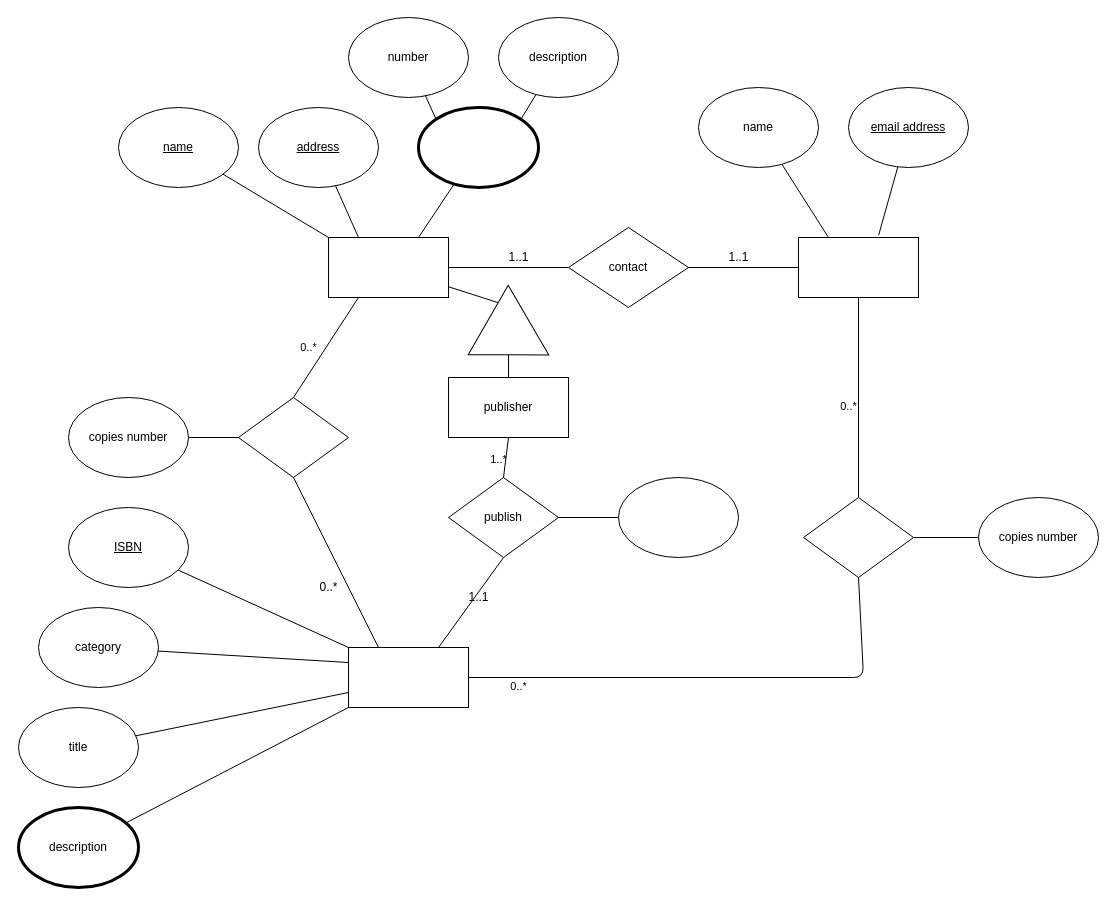
This 1116x906 diagram has some shape labels left out. Here are the shapes that lost their labels. From the top down, the box of each, then its label:
(416, 106, 540, 188): phone number
(328, 236, 448, 298): company
(798, 236, 918, 298): person
(467, 284, 569, 390): ISA
(238, 396, 348, 478): corporation sell
(618, 476, 738, 558): year
(802, 496, 914, 578): individual sell
(348, 646, 468, 708): textbook
